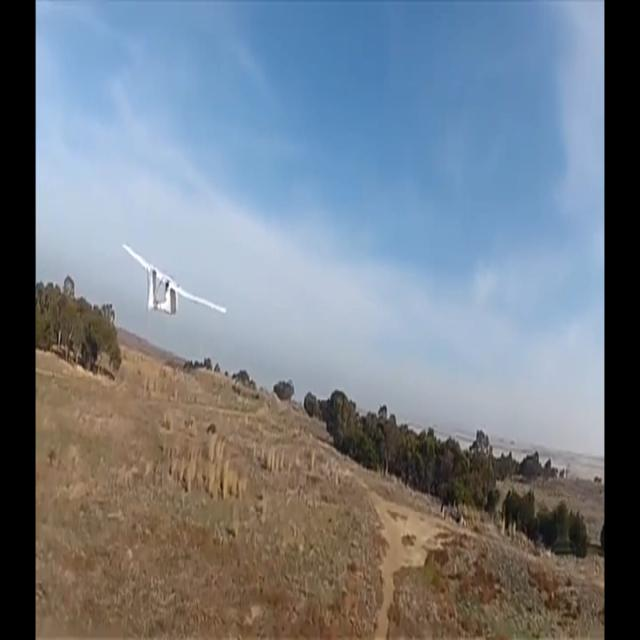iha: (153, 271, 194, 286)
